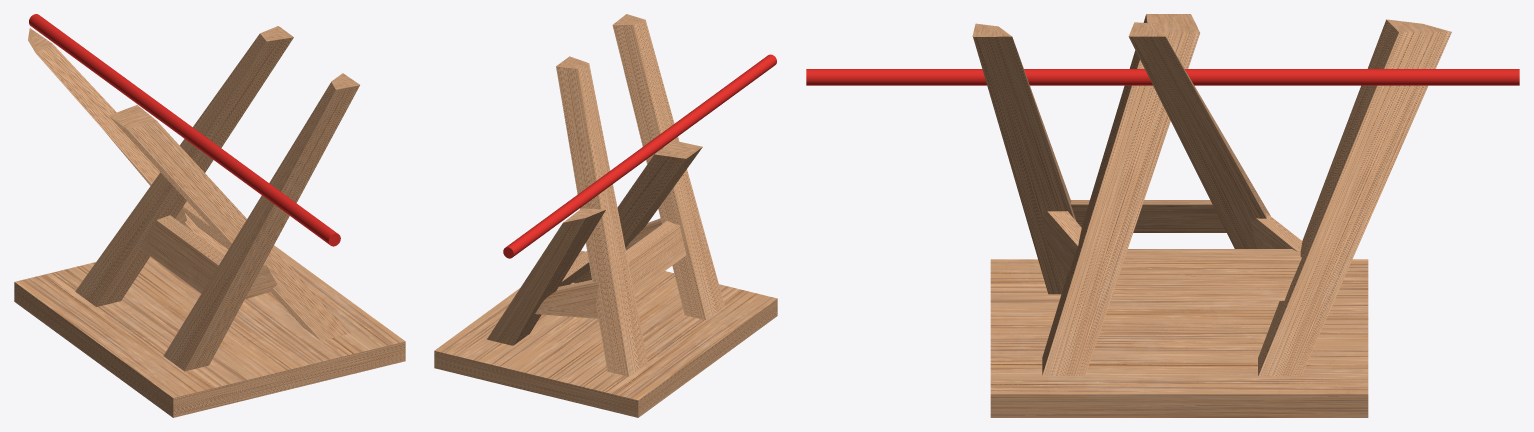
File: stool.fbx
The picture shows the model from 3 angles, left to right: view 1: azimuth 30°, elevation 25°; view 2: azimuth 150°, elevation 25°; view 3: azimuth 270°, elevation 25°; orthographic projection. The views are drawn at different scales.
Parts seen in each view (by area): view 1: Cube, Cube.005, Cube.004, Cube.001, Cylinder, Cube.002, Cube.007, Cube.009, Cube.006; view 2: Cube, Cube.004, Cube.005, Cube.002, Cylinder, Cube.001, Cube.007, Cube.008, Cube.006; view 3: Cube, Cube.002, Cube.001, Cylinder, Cube.005, Cube.004, Cube.006, Cube.007, Cube.009, Cube.008.
Part boxes in pixels (x1=…): Cube: x1=14, y1=245, x2=405, y2=417; Cube.005: x1=163, y1=73, x2=359, y2=371; Cube.004: x1=75, y1=26, x2=293, y2=306; Cube.001: x1=109, y1=105, x2=351, y2=340; Cylinder: x1=29, y1=14, x2=340, y2=246; Cube.002: x1=28, y1=28, x2=228, y2=254; Cube.007: x1=139, y1=215, x2=224, y2=293; Cube.009: x1=245, y1=264, x2=277, y2=299; Cube.006: x1=182, y1=201, x2=229, y2=249; Cube: x1=434, y1=250, x2=777, y2=417; Cube.004: x1=556, y1=56, x2=647, y2=376; Cube.005: x1=612, y1=14, x2=724, y2=319; Cube.002: x1=487, y1=208, x2=605, y2=345; Cylinder: x1=503, y1=54, x2=776, y2=258; Cube.001: x1=573, y1=141, x2=702, y2=283; Cube.007: x1=626, y1=220, x2=686, y2=292; Cube.008: x1=535, y1=280, x2=598, y2=318; Cube.006: x1=559, y1=251, x2=590, y2=286; Cube: x1=990, y1=259, x2=1368, y2=417; Cube.002: x1=1258, y1=19, x2=1451, y2=375; Cube.001: x1=1042, y1=14, x2=1199, y2=375; Cylinder: x1=806, y1=69, x2=1519, y2=85; Cube.005: x1=972, y1=23, x2=1075, y2=294; Cube.004: x1=1128, y1=22, x2=1270, y2=248; Cube.006: x1=1110, y1=249, x2=1301, y2=300; Cube.007: x1=1071, y1=200, x2=1226, y2=232; Cube.009: x1=1041, y1=211, x2=1081, y2=273; Cube.008: x1=1250, y1=213, x2=1302, y2=251.
Bounding box in the file's own units: 75.12 × 90.98 × 168.
